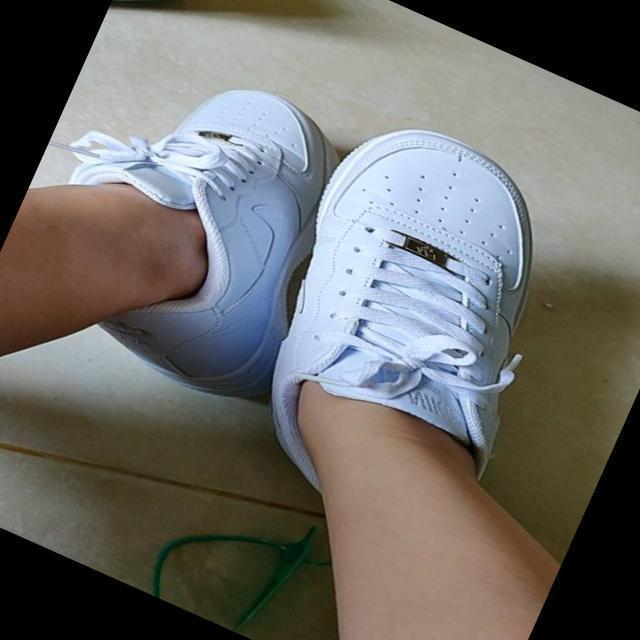nike fake air force: (202, 92, 602, 552), (11, 26, 372, 412)
